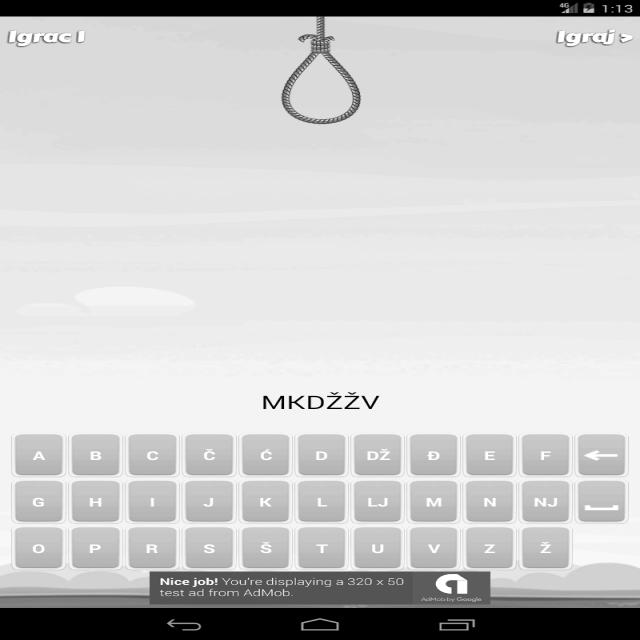Button: (347, 426, 408, 476), (514, 476, 577, 524), (178, 523, 240, 569), (11, 431, 69, 477), (404, 523, 462, 569), (123, 476, 178, 523)
ImageView: (257, 23, 381, 132), (417, 572, 494, 606)
TextView: (158, 574, 398, 600), (254, 384, 385, 414)
